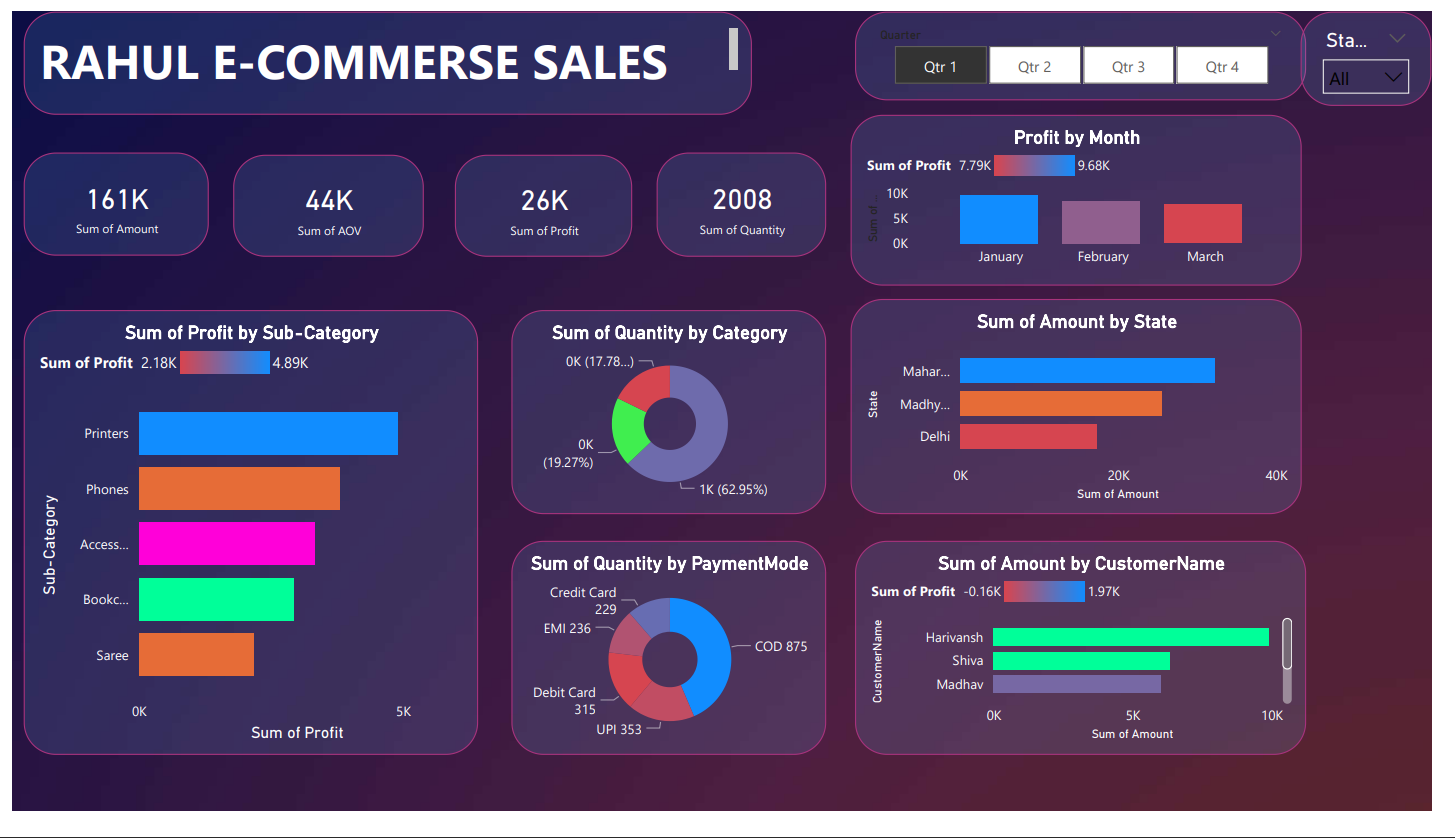

Layout of this report page (visuals, bound fields, positions):
{"tool":"powerbi","page":{"name":"Page 1","canvas":[1280,720],"ordinal":0},"visuals":[{"type":"textbox","box":[10,0,657.1,92.9],"z":0},{"type":"clusteredColumnChart","title":"Profit by Month","fields":{"Y":["Details.Profit"],"Category":["Orders.Order Date.Variation.Date Hierarchy.Month"]},"box":[755.7,92.9,407.1,154.3],"z":1000},{"type":"barChart","fields":{"Category":["Details.Sub-Category"],"Y":["Details.Profit"]},"box":[10,268.6,410,401.4],"z":2000},{"type":"donutChart","fields":{"Category":["Details.Category"],"Y":["Details.Quantity"]},"box":[450,268.6,284.3,184.3],"z":3000},{"type":"donutChart","fields":{"Y":["Details.Quantity"],"Category":["Details.PaymentMode"]},"box":[450,477.1,284.3,192.9],"z":4000},{"type":"card","fields":{"Values":["Details.Amount"]},"box":[10,126.7,166.7,93.3],"z":5000},{"type":"card","fields":{"Values":["Details.AOV"]},"box":[198.6,128.6,172.9,92.9],"z":6000},{"type":"card","fields":{"Values":["Details.Quantity"]},"box":[581.4,127.1,152.9,94.3],"z":7000},{"type":"card","fields":{"Values":["Details.Profit"]},"box":[398.6,128.6,160,92.9],"z":8000},{"type":"barChart","fields":{"Category":["Orders.CustomerName"],"Y":["Details.Amount"]},"box":[760,476.7,406.7,193.3],"z":9000},{"type":"barChart","fields":{"Category":["Orders.State"],"Y":["Details.Amount"]},"box":[755.7,258.6,407.1,194.3],"z":10000},{"type":"slicer","fields":{"Values":["Orders.Order Date.Variation.Date Hierarchy.Quarter"]},"box":[760,0,406.7,80],"z":11000},{"type":"slicer","fields":{"Values":["Orders.State"]},"box":[1161.7,0,118.3,85],"z":12000}]}

Visuals, with their boxes in screenshot pixels (x1, y1, x2, y2), scaled from the page's 1280x720 canvas onto the 1455x838 screenshot:
textbox: region(11, 0, 758, 108)
"Profit by Month" clusteredColumnChart: region(859, 108, 1322, 288)
barChart - Details.Sub-Category x Details.Profit: region(11, 313, 477, 780)
donutChart - Details.Category x Details.Quantity: region(512, 313, 835, 527)
donutChart - Details.Quantity x Details.PaymentMode: region(512, 555, 835, 780)
card - Details.Amount: region(11, 147, 201, 256)
card - Details.AOV: region(226, 150, 422, 258)
card - Details.Quantity: region(661, 148, 835, 258)
card - Details.Profit: region(453, 150, 635, 258)
barChart - Orders.CustomerName x Details.Amount: region(864, 555, 1326, 780)
barChart - Orders.State x Details.Amount: region(859, 301, 1322, 527)
slicer - Orders.Order Date.Variation.Date Hierarchy.Quarter: region(864, 0, 1326, 93)
slicer - Orders.State: region(1321, 0, 1454, 99)
